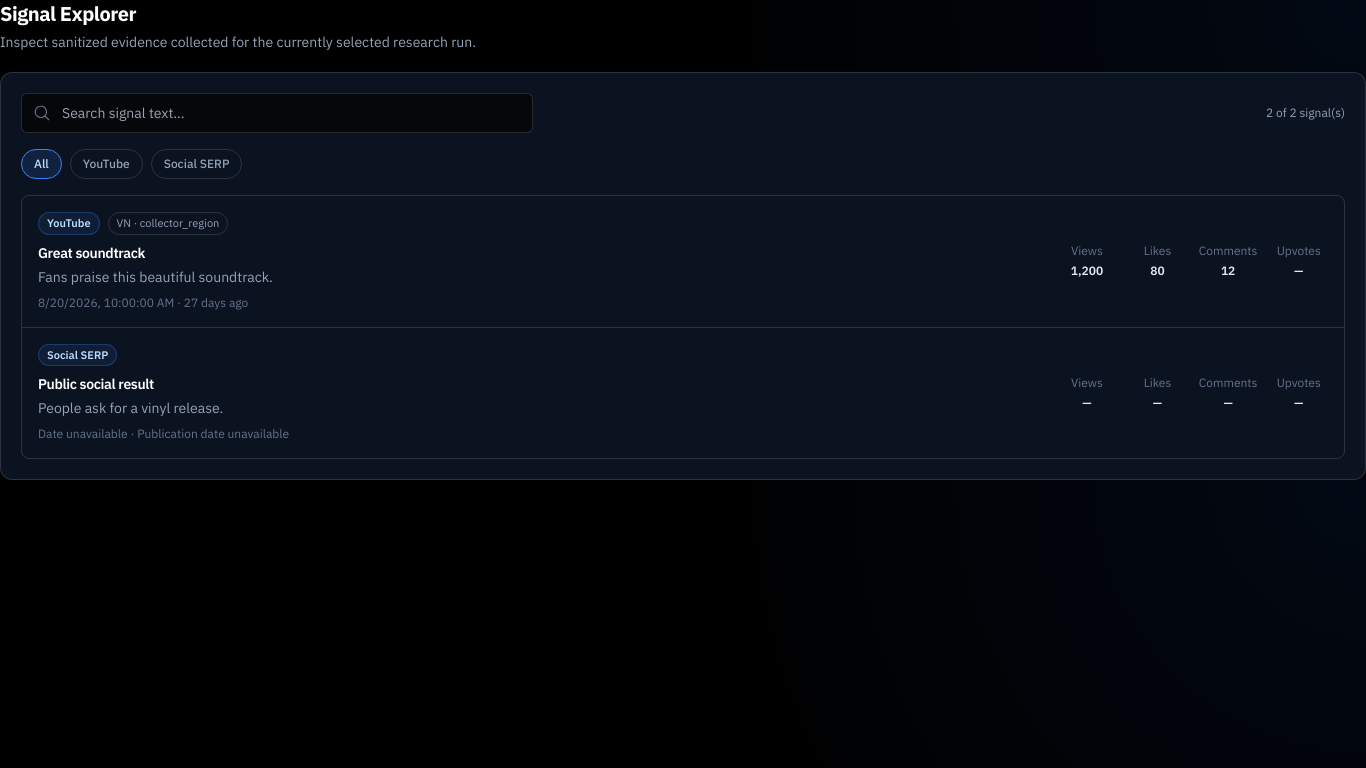
Signal Explorer › filters in real time, switches source tabs, and opens and closes details
Expected: the heading "Great soundtrack" is shown, left=38, top=244, right=145, bottom=262
Type "vinyl" into the field with placeholder "Search signal text…" at (277,113), box left=21, top=93, right=533, bottom=133
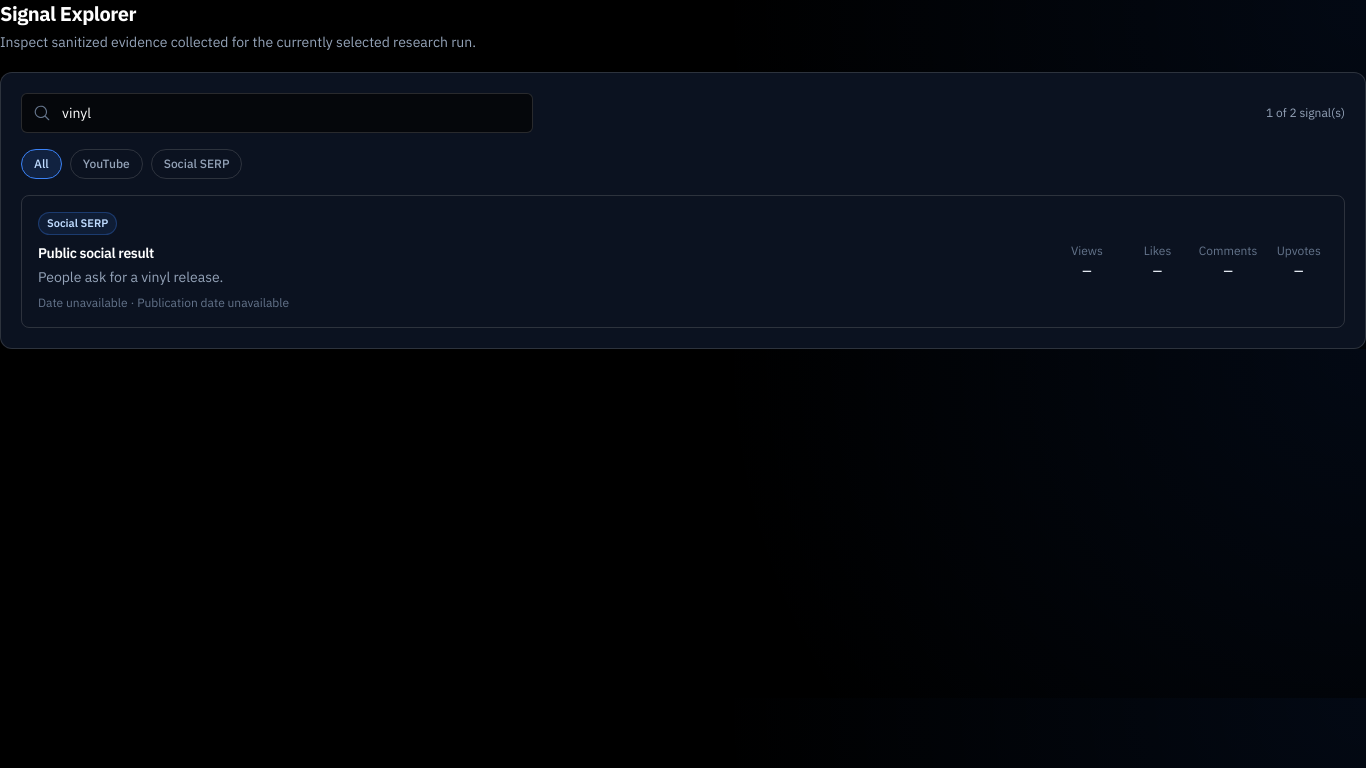
Expected: the heading "Public social result" is shown, left=38, top=244, right=154, bottom=262
Expected: the button "Great soundtrack" is gone
Clear the field with placeholder "Search signal text…" at (277,113), box left=21, top=93, right=533, bottom=133
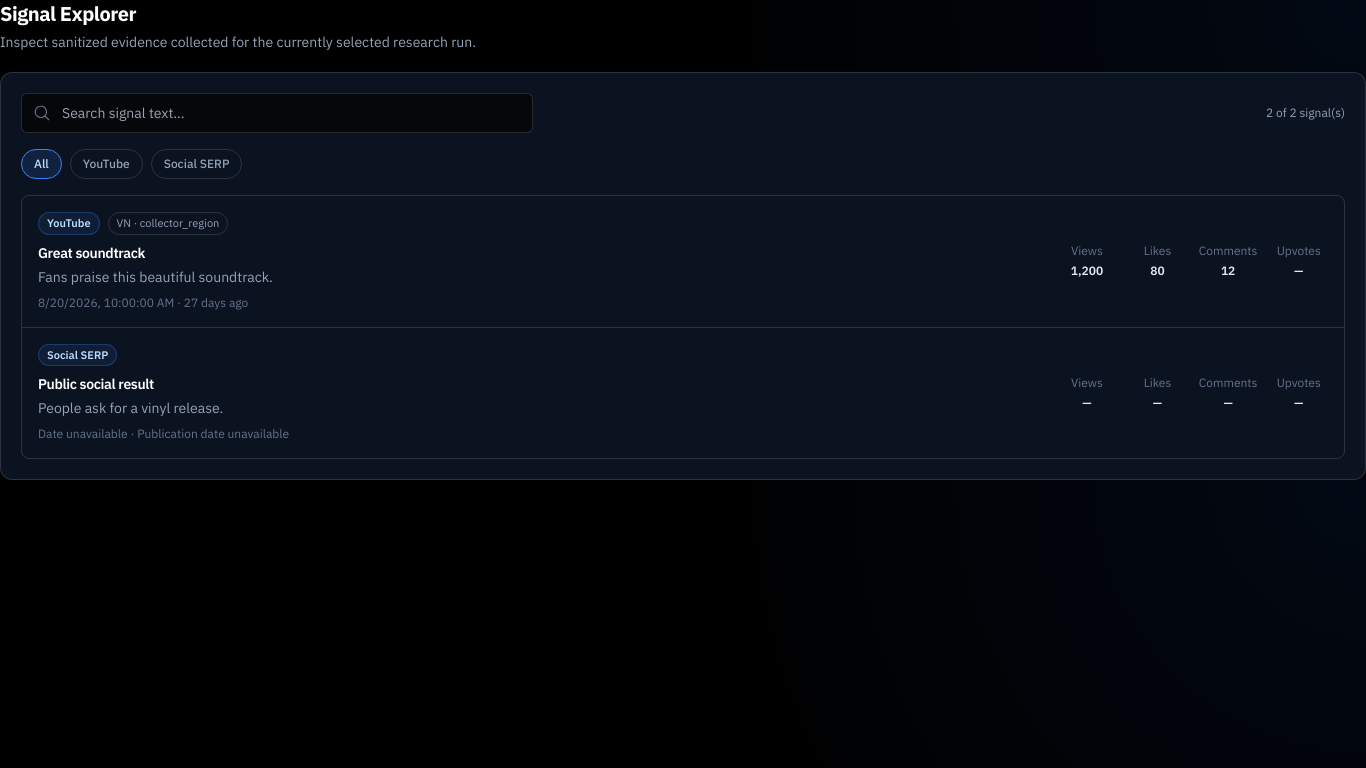
Click the tab "YouTube" at (106,164), box left=70, top=149, right=143, bottom=179
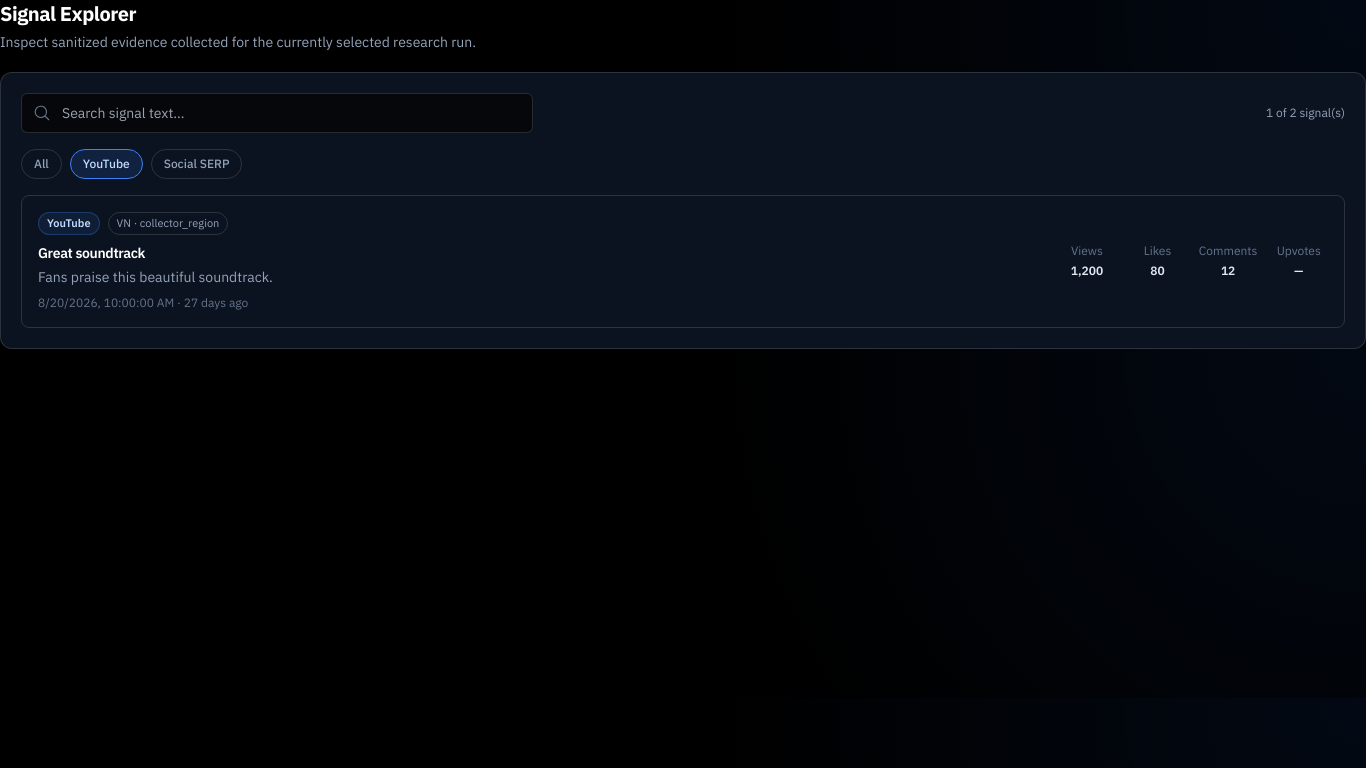
Expected: the heading "Great soundtrack" is shown
Expected: the button "Public social result" is gone
Click the heading "Great soundtrack" at (92,252), box left=38, top=244, right=145, bottom=262
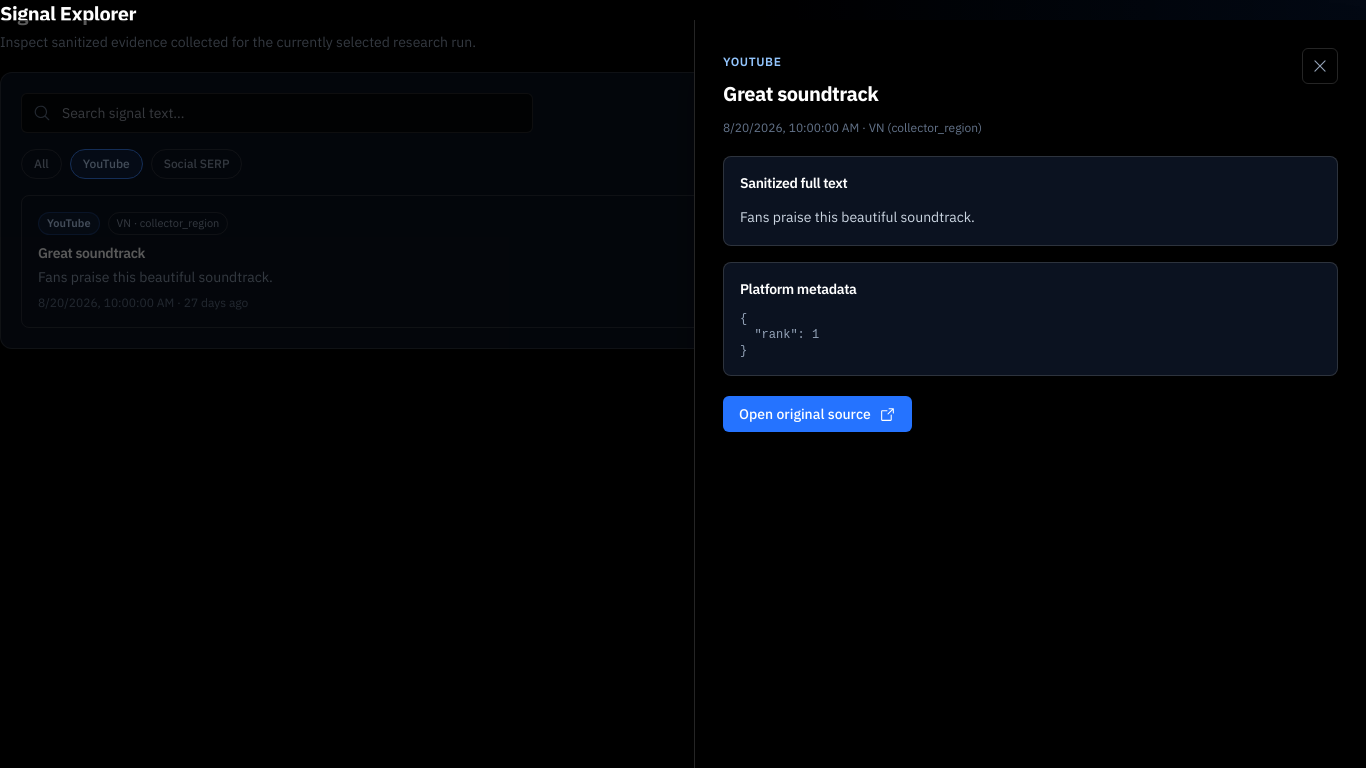
Expected: the text "Fans praise this beautiful soundtrack." is shown, left=740, top=208, right=975, bottom=226
Expected: the text "{ \"rank\": 1 }" is shown, left=740, top=312, right=819, bottom=358
Click the button named "Close signal details" at (1320,66), box left=1302, top=48, right=1338, bottom=84
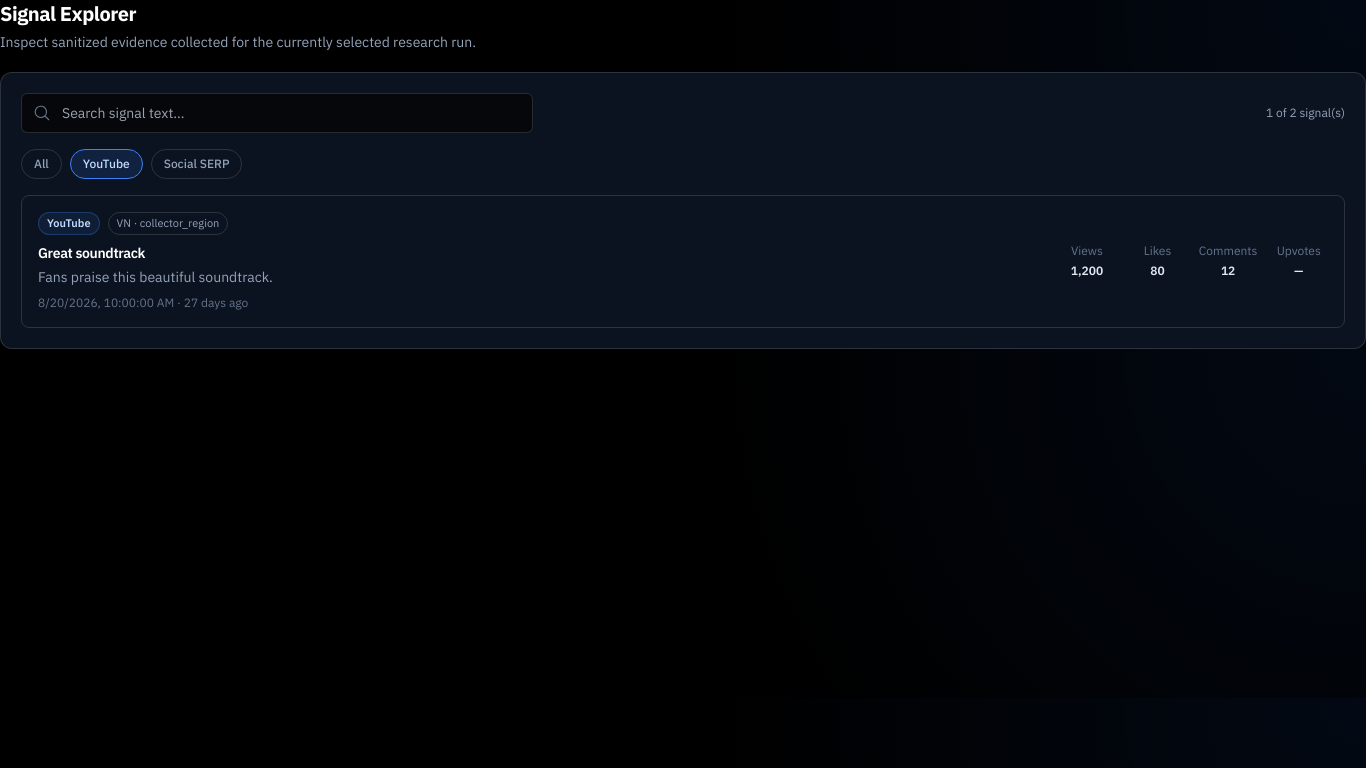
Expected: the dialog is gone
